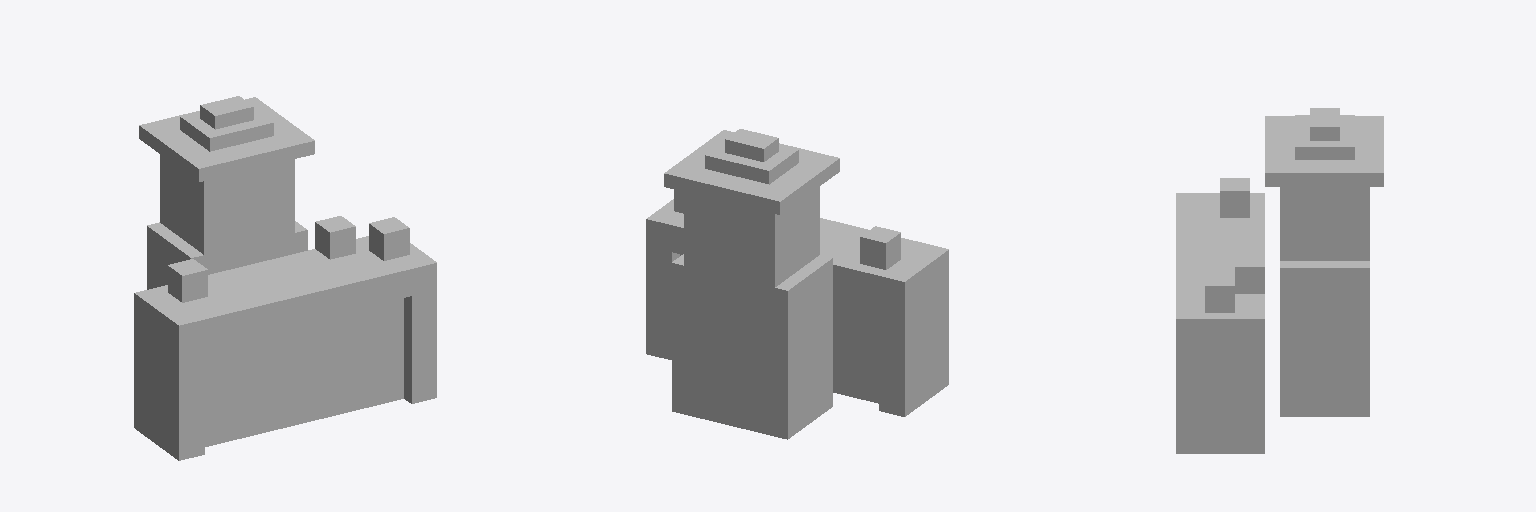
File: Merchant.obj
3 views of the same model, side by side, from view 1: azimuth 30°, elevation 25°; view 2: azimuth 150°, elevation 25°; view 3: azimuth 270°, elevation 25° (orthographic).
Size of the model in its own units: 20 by 20 by 14.